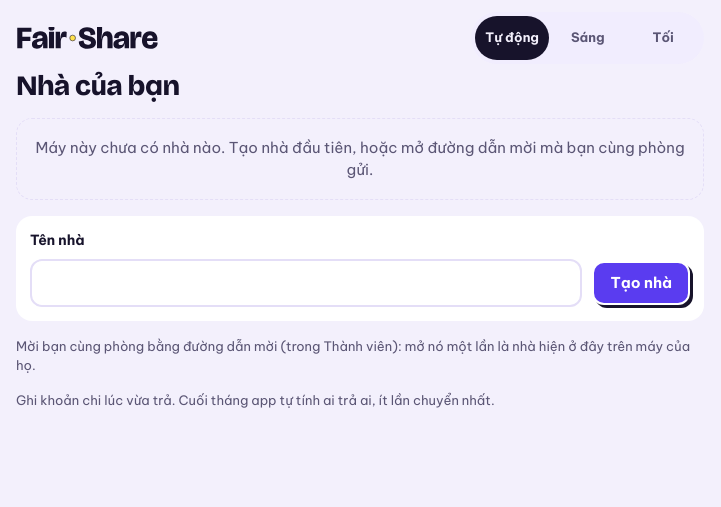
shows the server message when creating fails, and keeps what was typed
In the field labelled "Tên nhà": (306, 283) [30, 259, 582, 307], type "Nhà 7"
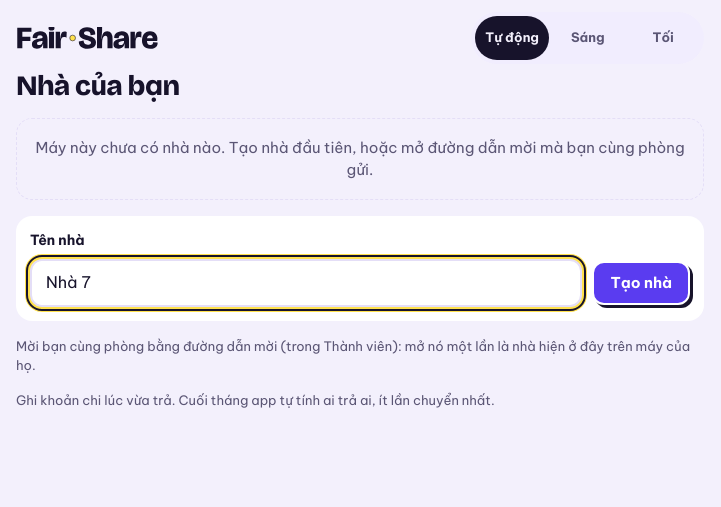
Click the button "Tạo nhà": (641, 283) [592, 261, 690, 305]
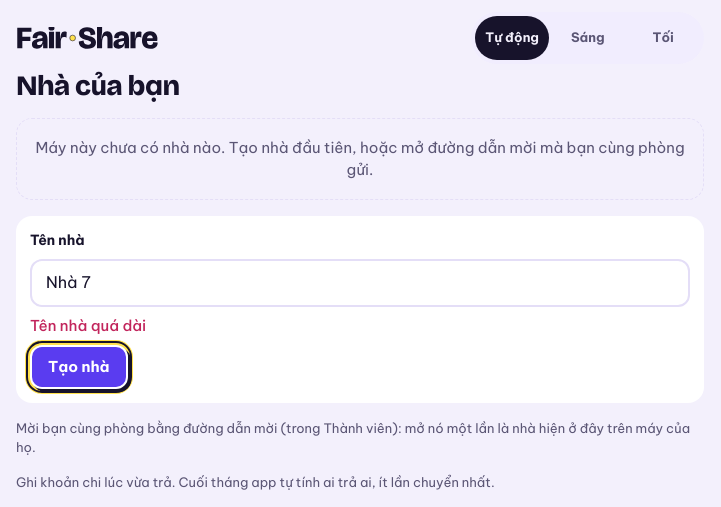
Now the message "Tên nhà quá dài" is shown, box [30, 316, 146, 335]
